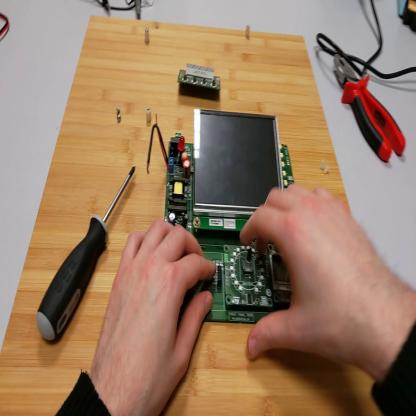hand: (240, 183, 392, 370), (94, 220, 216, 406)
low voltage board: (148, 108, 296, 326)
oscilloscope probe tip: (136, 1, 142, 20)
pliers: (333, 52, 408, 159)
screwdriver-: (39, 163, 136, 350)
welder station: (400, 1, 416, 36)
working area: (2, 17, 388, 415)
